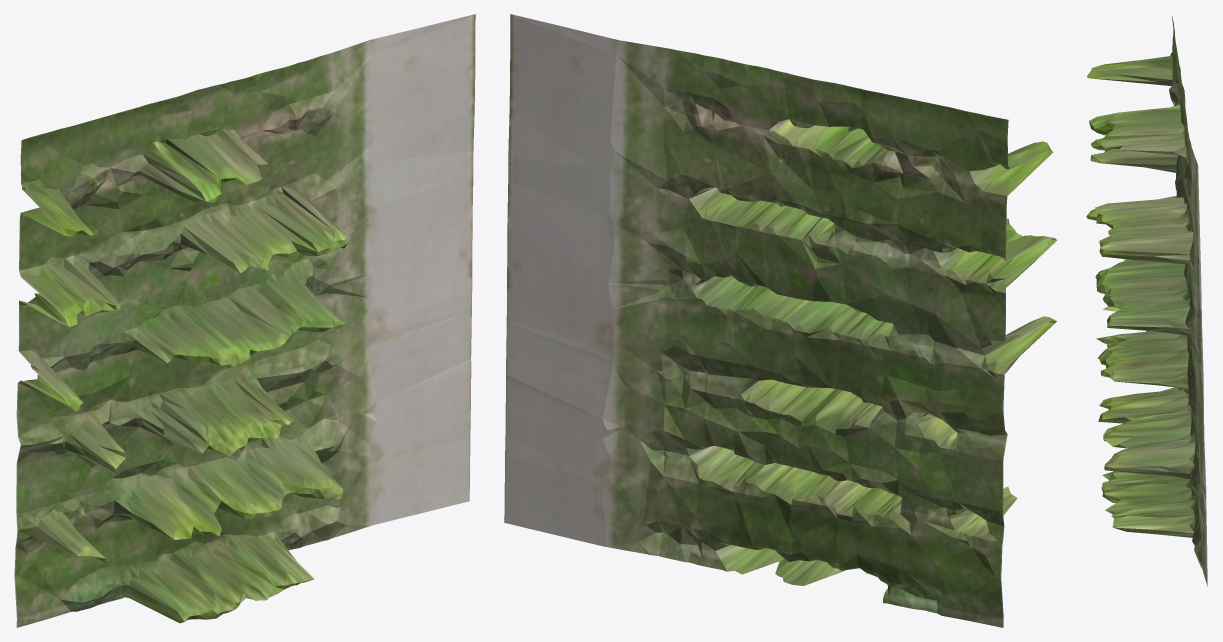
The model's file is map_140_80.obj.
3 renders of one model, left to right at view 1: azimuth 30°, elevation 25°; view 2: azimuth 150°, elevation 25°; view 3: azimuth 270°, elevation 25°, orthographic. The views are drawn at different scales.
Parts seen in each view (by area): view 1: grp1; view 2: grp1; view 3: grp1.
Part boxes in pixels (x1,y1,x2,y2): grp1: (14,14,475,627); grp1: (504,14,1057,627); grp1: (1086,15,1207,586).
Bounding box in the file's own units: 10 × 10 × 2.64.
Materials: 1 (1 with a texture image).
